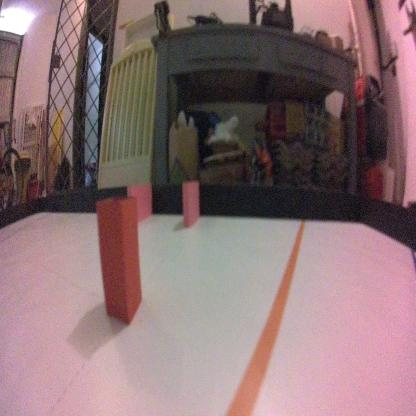magenta: (127, 182, 154, 223), (180, 178, 200, 232)
red: (93, 190, 145, 331)
